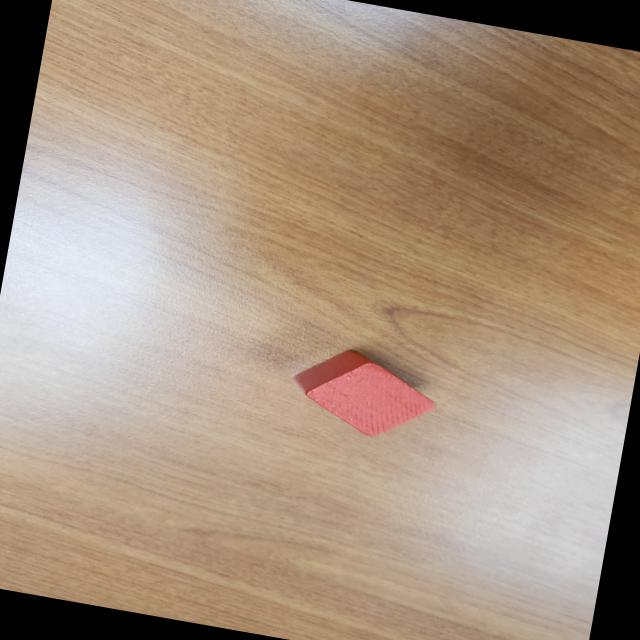red: (284, 341, 446, 448)
